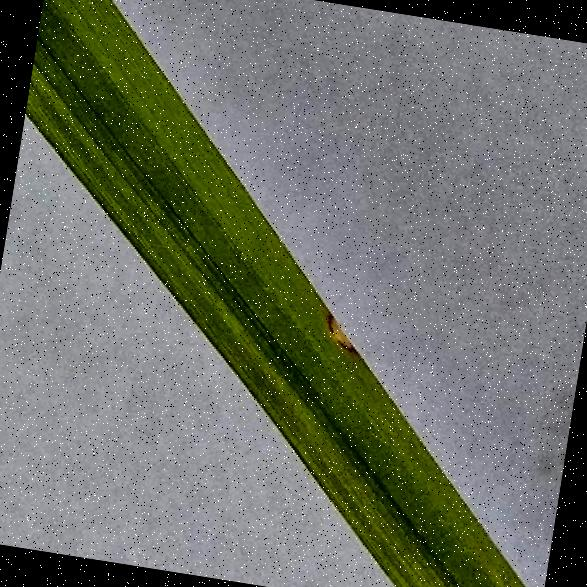Leaf_smut: (284, 297, 362, 355)
